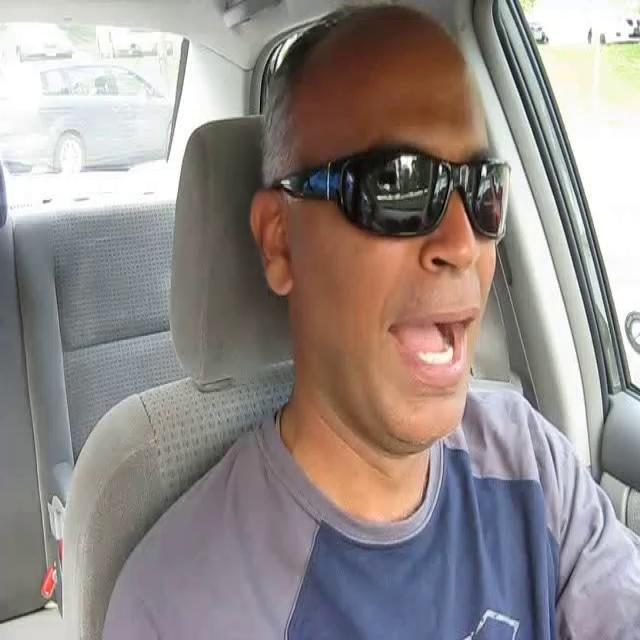open: (380, 301, 485, 392)
